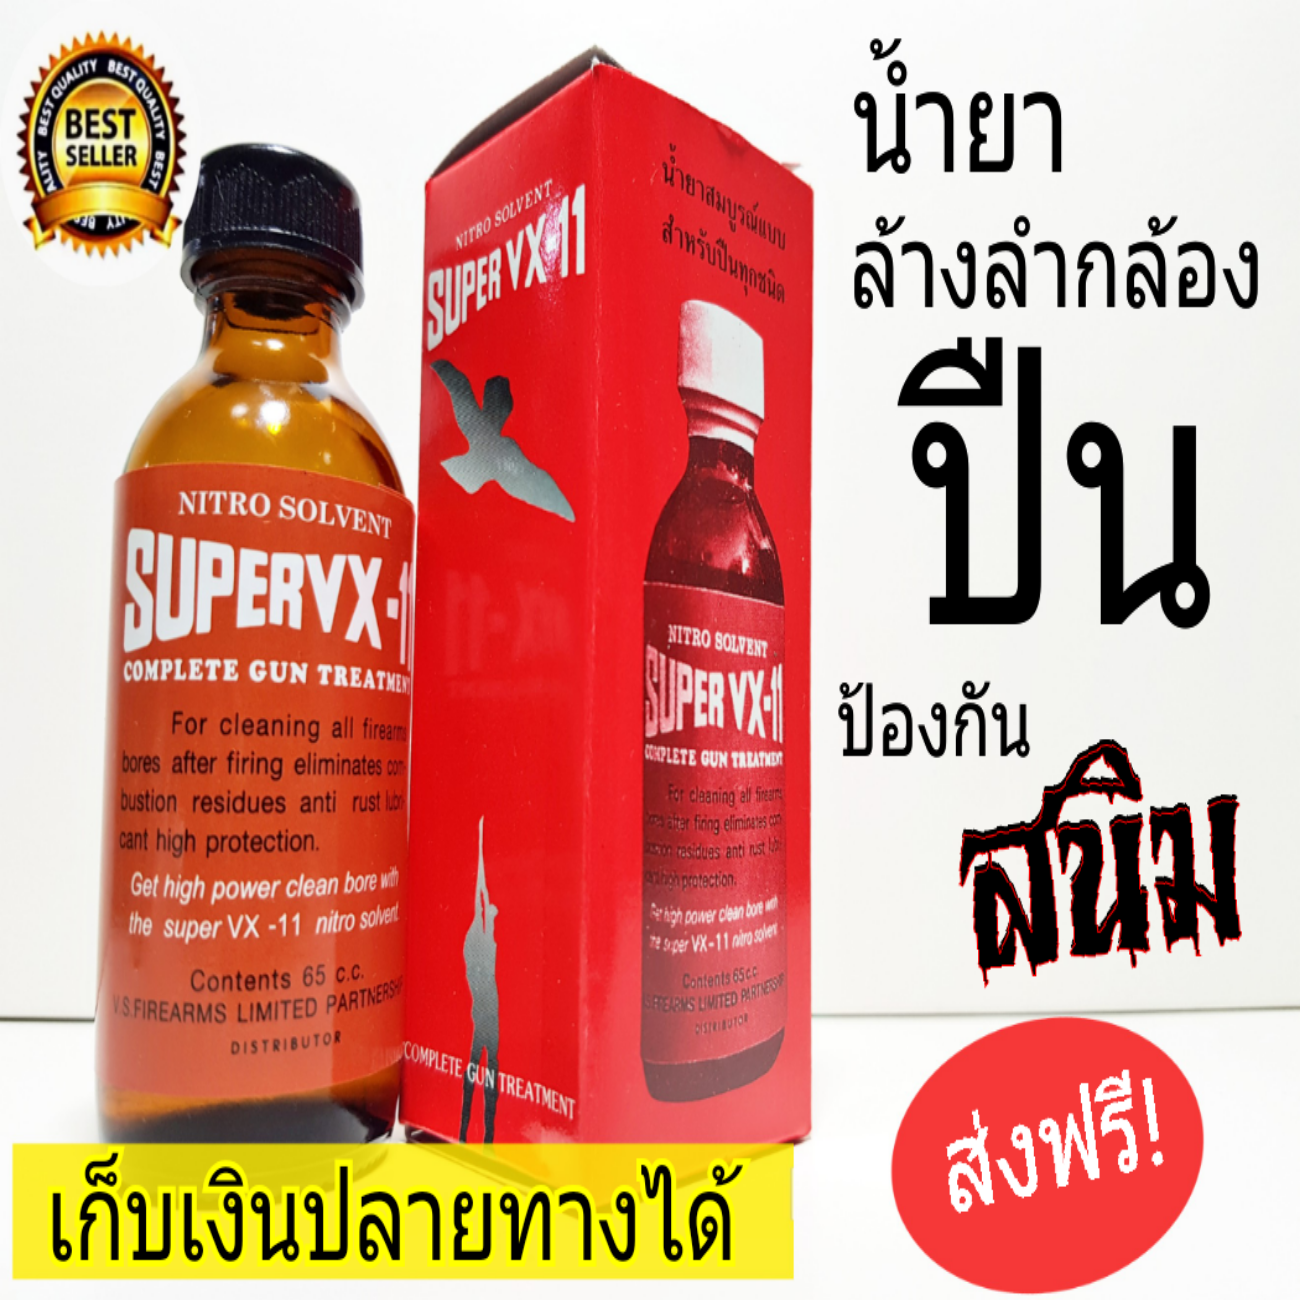Cleaning_solution: (96, 135, 419, 1174)
